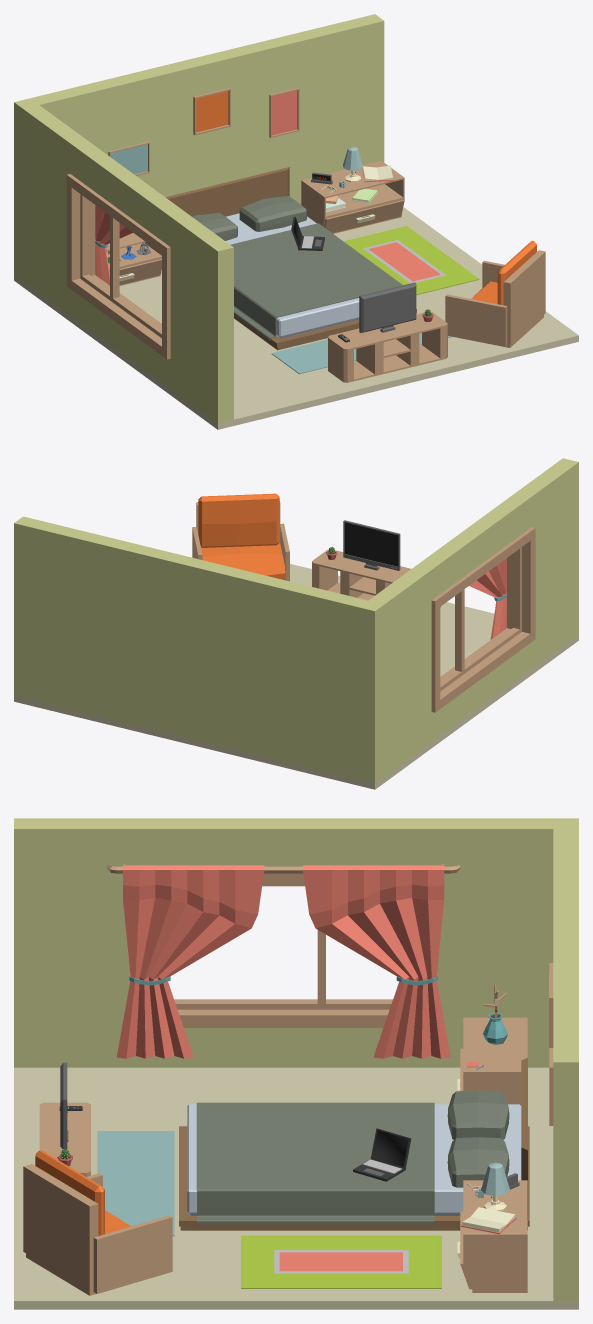
Rendered from low_poly_bedroom.glb.
3 views of the same model, one above another, from view 1: azimuth 30°, elevation 25°; view 2: azimuth 150°, elevation 25°; view 3: azimuth 270°, elevation 25° (orthographic). The views are drawn at different scales.
Visible parts, largest first — view 1: Object_2; view 2: Object_2; view 3: Object_2, Object_3.
Boxes of the visible parts, x1,y1,x2,y2 form: Object_2: [14, 14, 578, 429]; Object_2: [14, 458, 578, 789]; Object_2: [14, 818, 578, 1309]; Object_3: [372, 1130, 477, 1189].
Bounding box in the file's own units: 4.47 × 2.09 × 4.33.
1 material, 1 textured.
